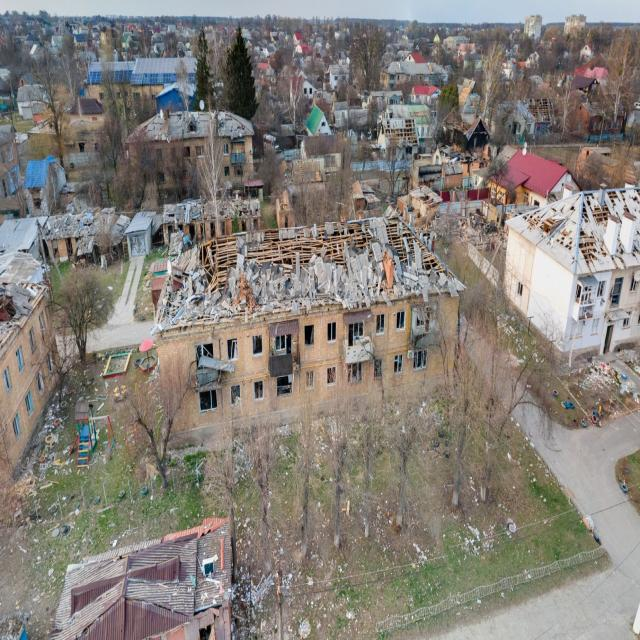broken_window: (199, 388, 217, 412), (252, 333, 263, 355), (304, 324, 314, 346), (254, 380, 264, 400), (327, 321, 336, 342), (396, 310, 405, 331)
building: (150, 210, 467, 442), (503, 184, 639, 358), (49, 514, 233, 638), (0, 249, 61, 482), (125, 107, 255, 205)
